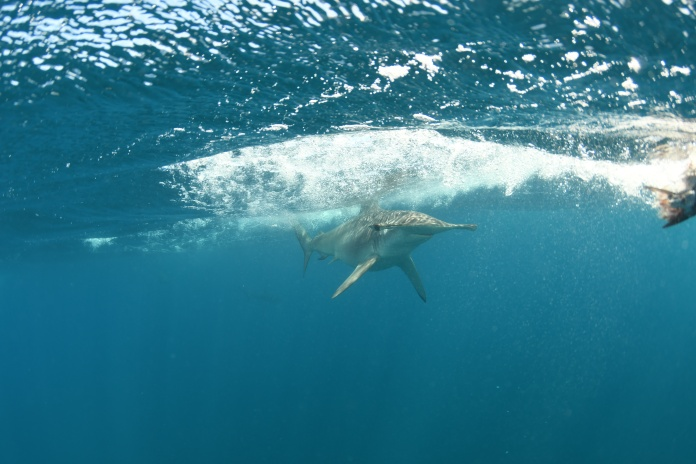Hammer: (243, 183, 509, 341)
